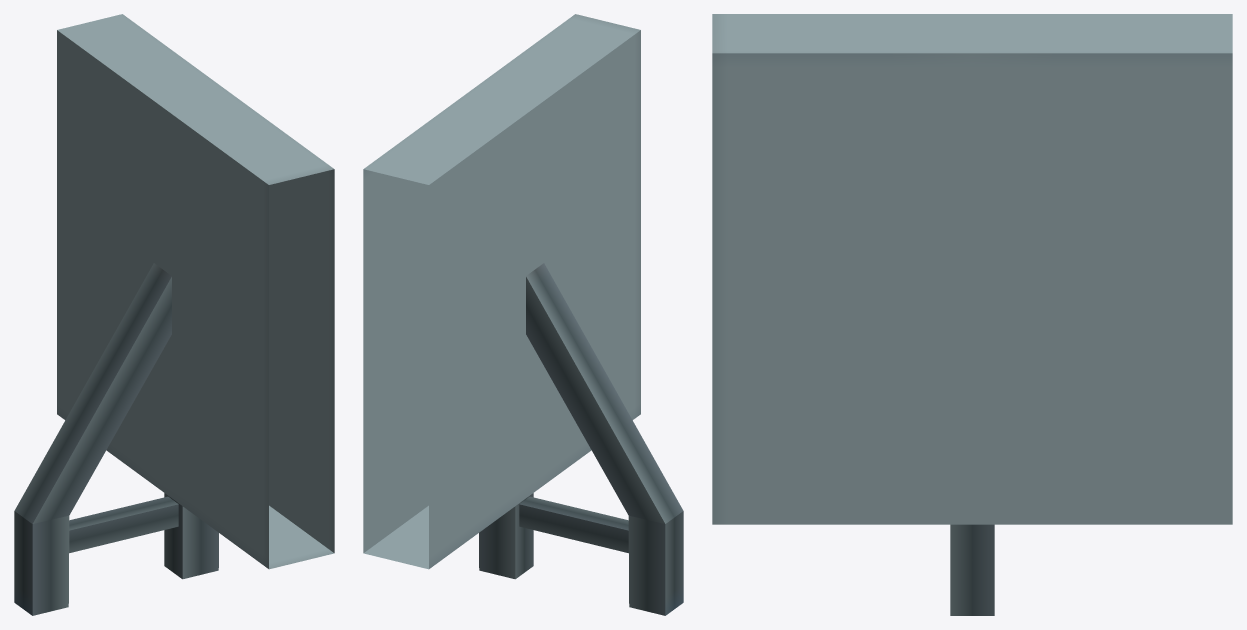
Rendered from Universal_Building_Factory_attachment_02_Mod.fbx.
3 renders of one model, left to right at view 1: azimuth 30°, elevation 25°; view 2: azimuth 150°, elevation 25°; view 3: azimuth 270°, elevation 25°, orthographic. The views are drawn at different scales.
Parts seen in each view (by area): view 1: Universal_Building_Factory_attachment_02_Mod; view 2: Universal_Building_Factory_attachment_02_Mod; view 3: Universal_Building_Factory_attachment_02_Mod.
Boxes of the visible parts, x1,y1,x2,y2 form: Universal_Building_Factory_attachment_02_Mod: (14, 14, 334, 615); Universal_Building_Factory_attachment_02_Mod: (363, 14, 683, 615); Universal_Building_Factory_attachment_02_Mod: (712, 14, 1232, 615).
Bounding box in the file's own units: 85.23 × 186 × 153.
